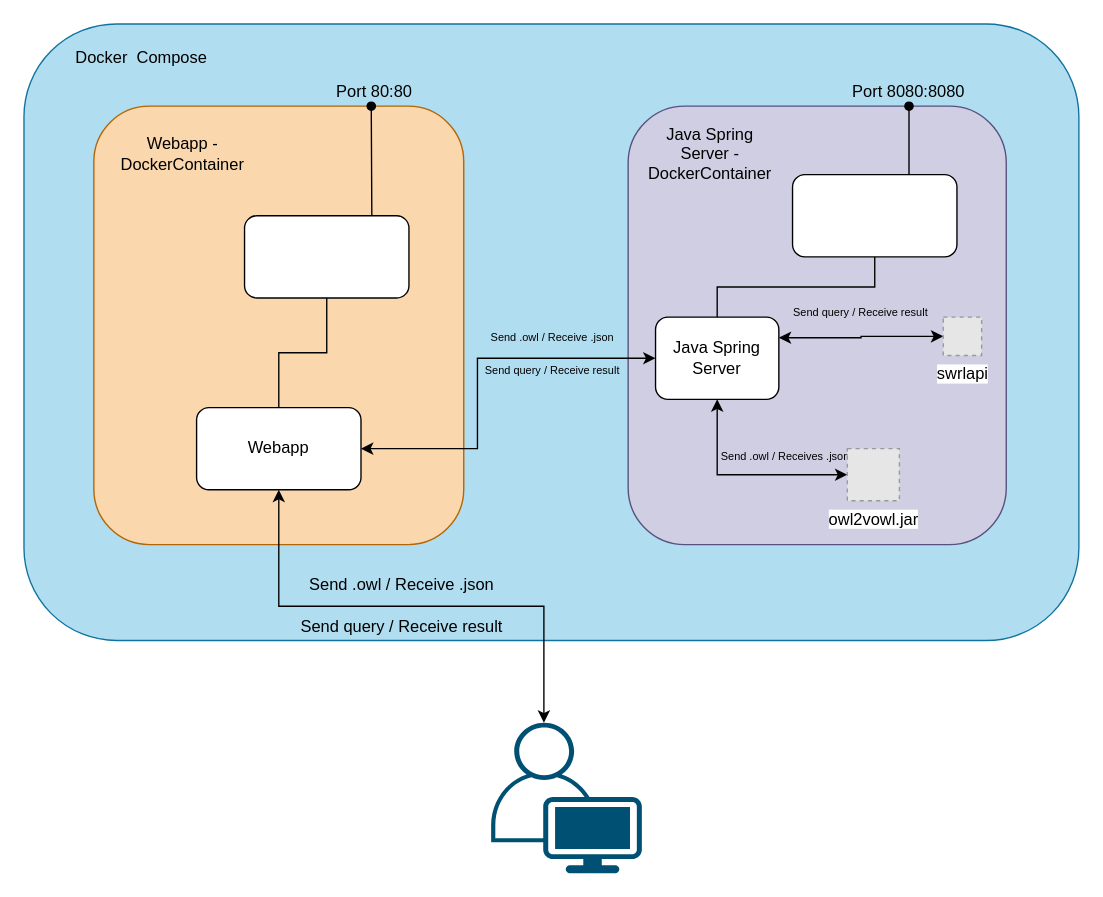
Image size: 1103x897. Some labels were removed from this diagram. Grey dashed boxes stand in for pictures. Each missing label, with the box of its shape:
NGINX: (243, 214, 409, 298)
OpenJDK 8 alpine: (791, 173, 957, 257)
